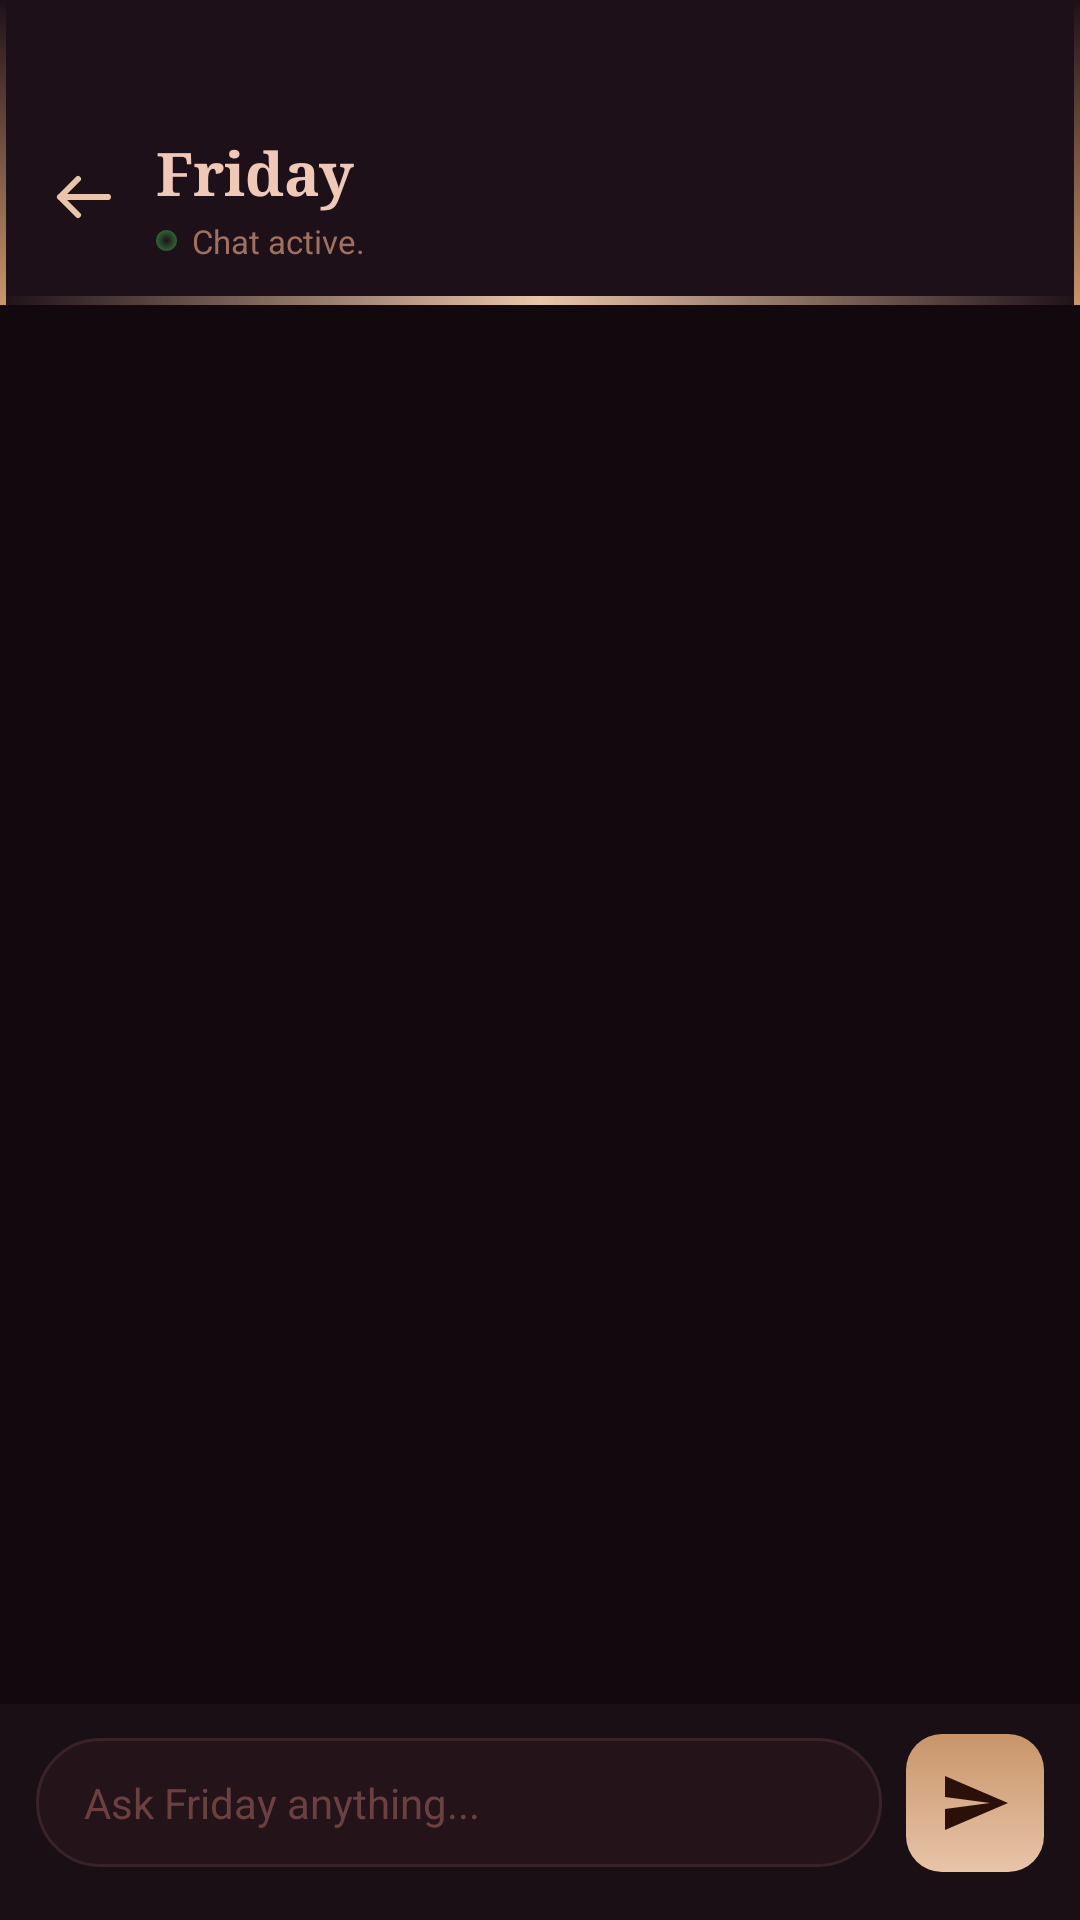

Where icons sit on this 1080x1920 app screen, as rect(x1, y1, x2, y2):
Back: rect(57, 176, 111, 218)
Send: rect(906, 1734, 1044, 1872)
